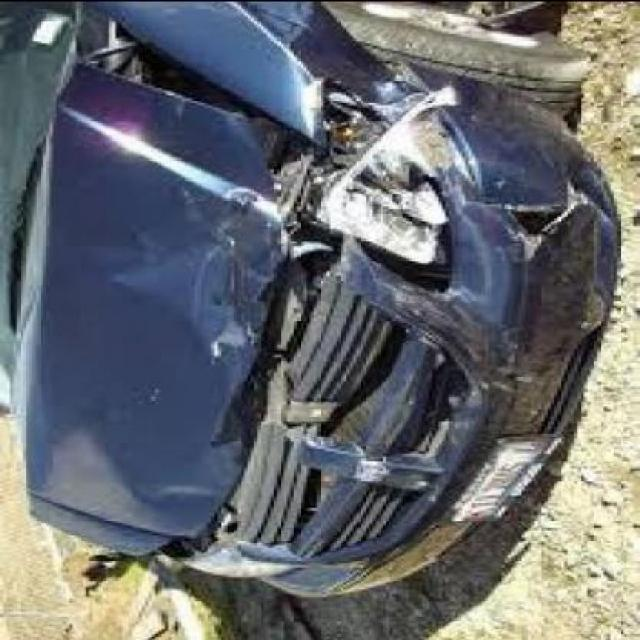damage: (25, 0, 619, 603)
